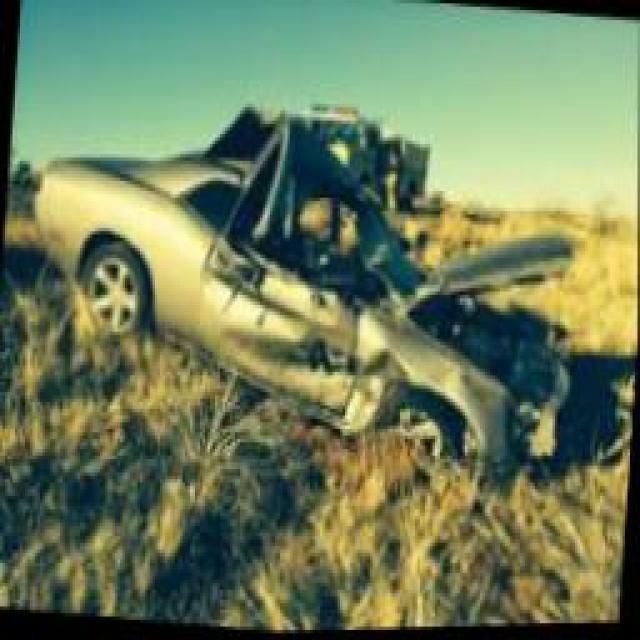Bonnet: (420, 218, 566, 412)
Bumper: (504, 347, 582, 492)
Door: (186, 118, 395, 420)
Fender: (332, 300, 512, 479)
